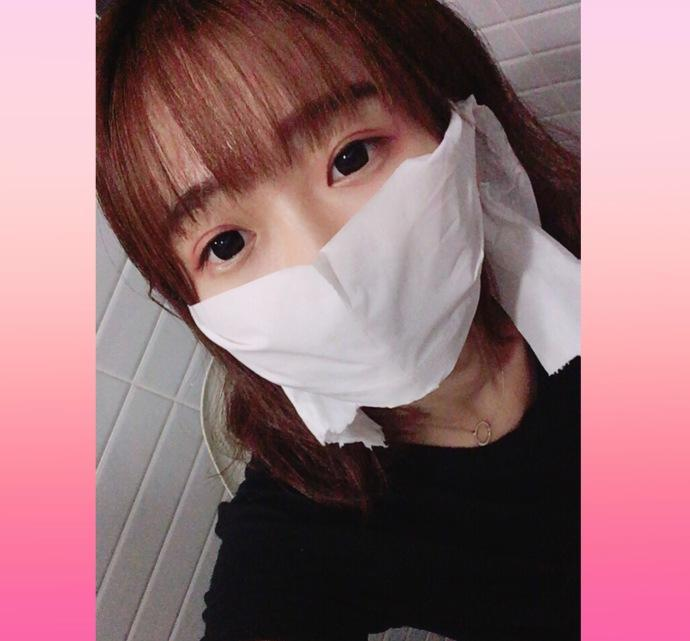OK: (151, 72, 488, 409)
